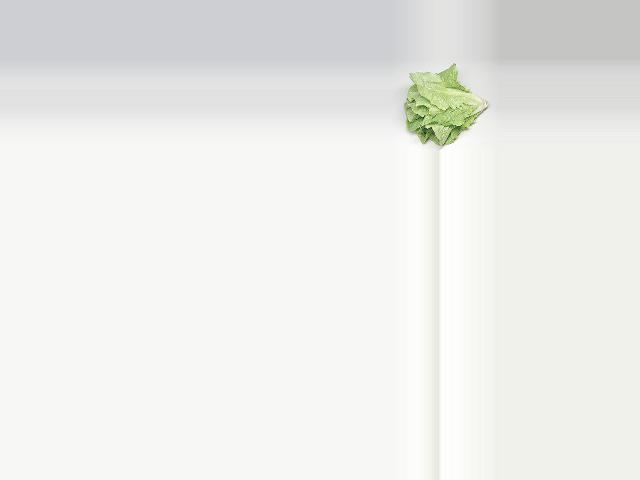lettuce: (399, 71, 492, 145)
